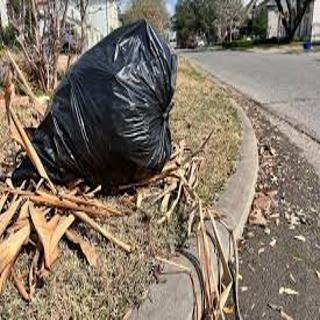Garbage: (9, 18, 185, 183)
